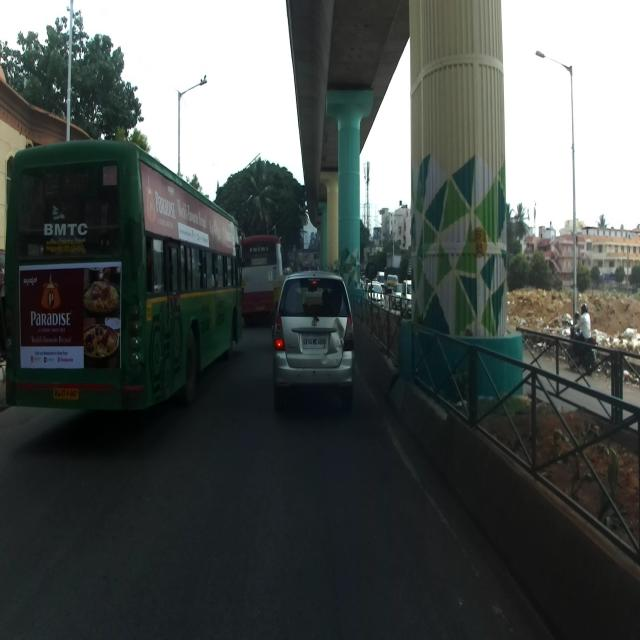Car_Toyota: (268, 268, 356, 417)
bus: (2, 134, 242, 428)
